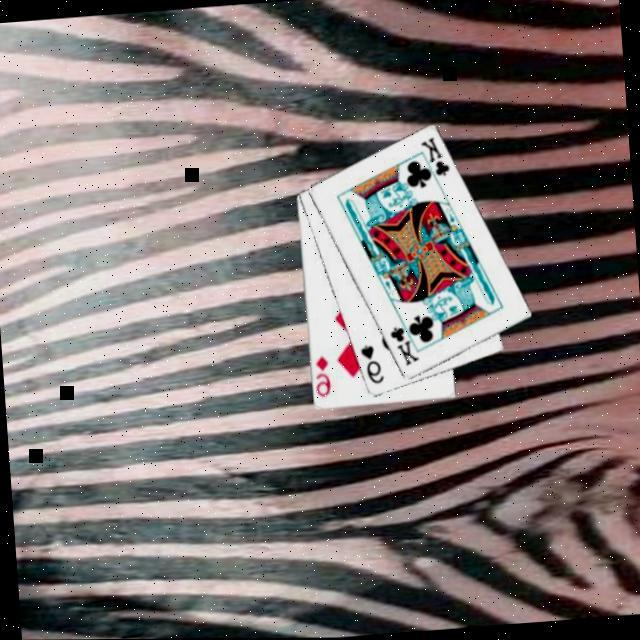6S: (354, 338, 385, 386)
9D: (310, 351, 332, 398)
KC: (414, 131, 452, 187), (384, 313, 422, 368)
